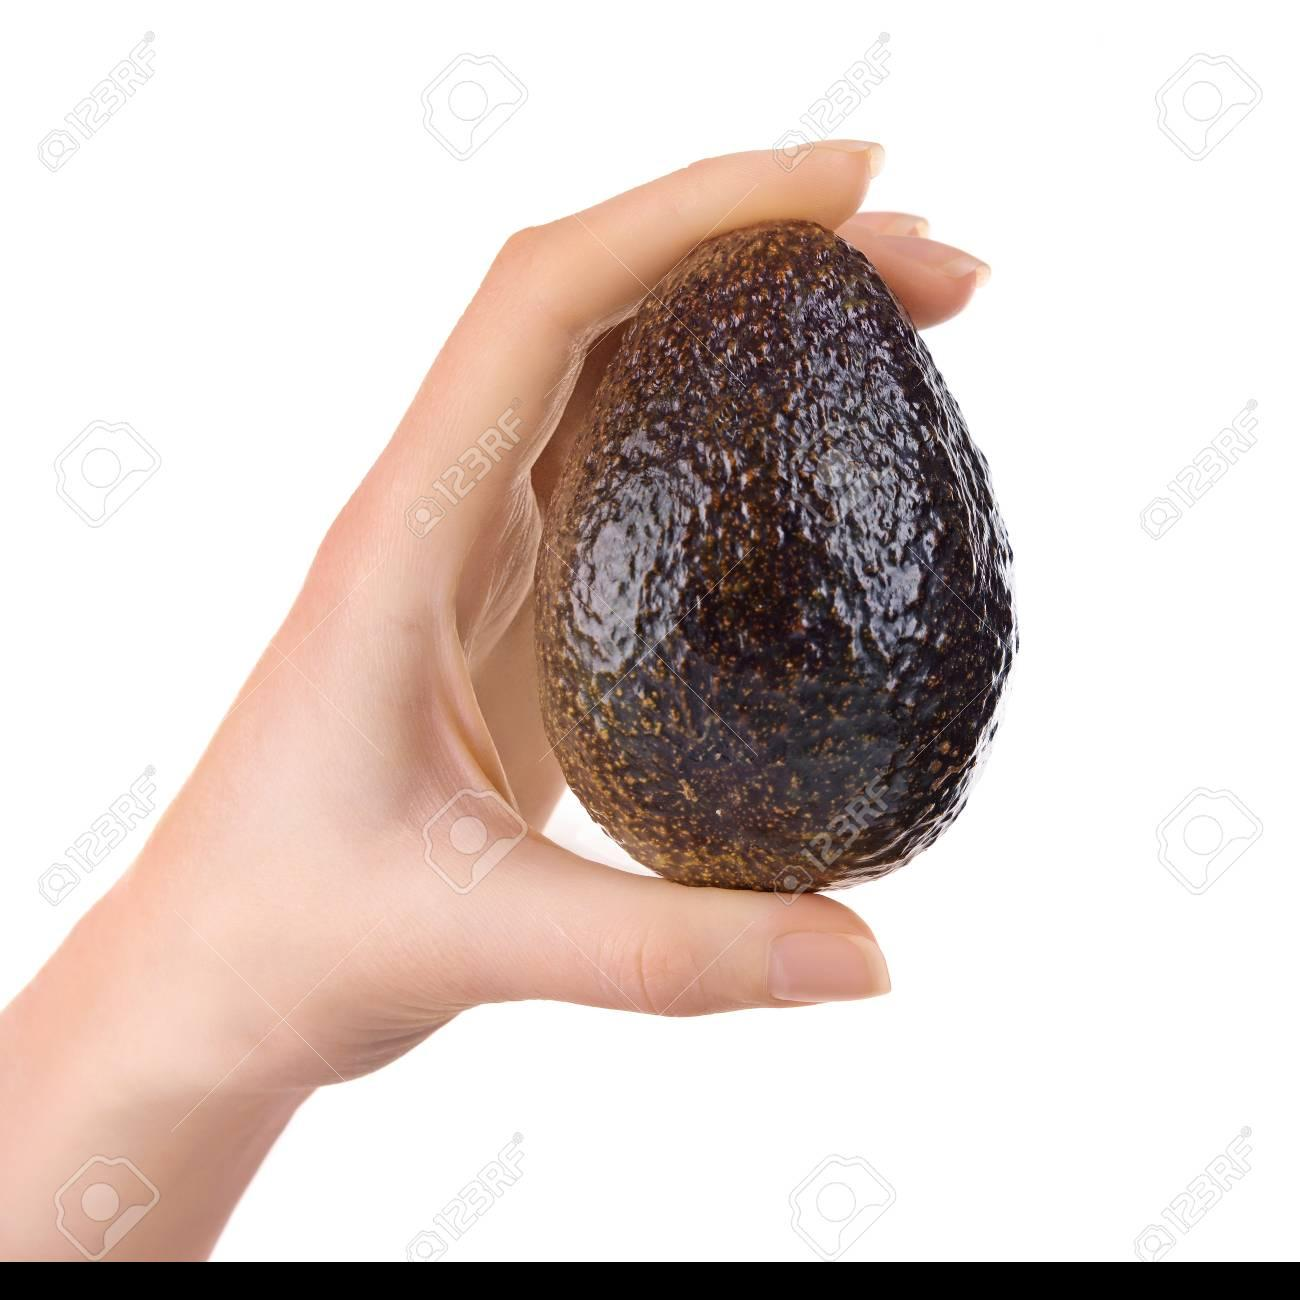ripe: (535, 221, 1017, 893)
